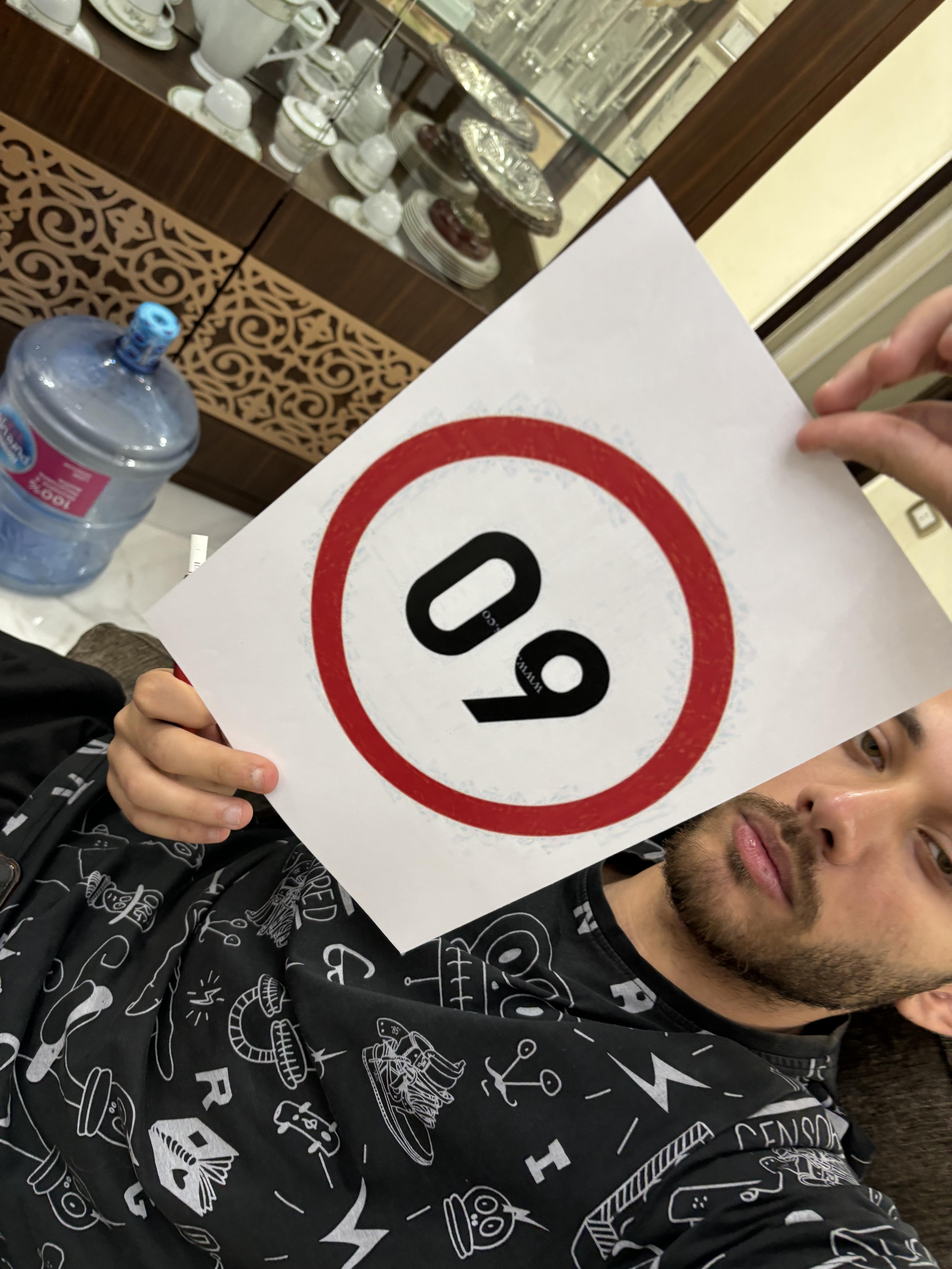60-Speed: (305, 411, 746, 842)
